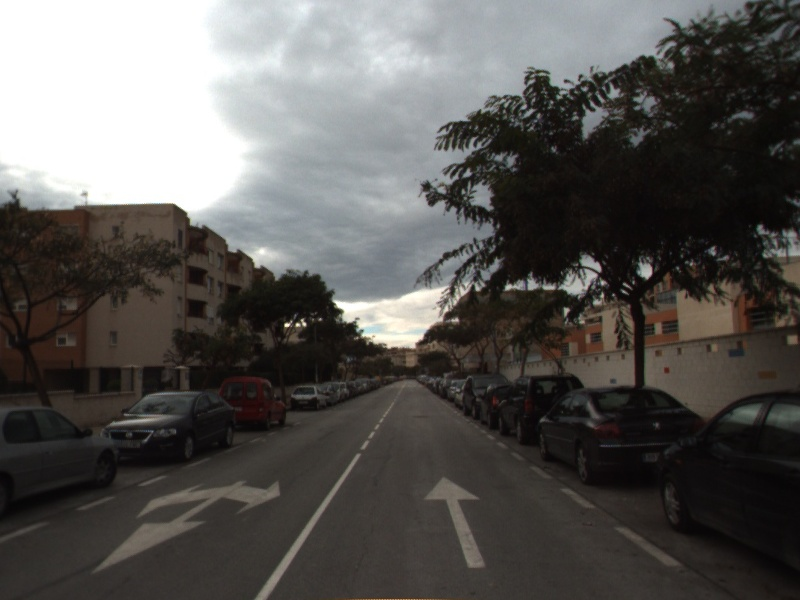STRAIGHT: (420, 474, 489, 570)
